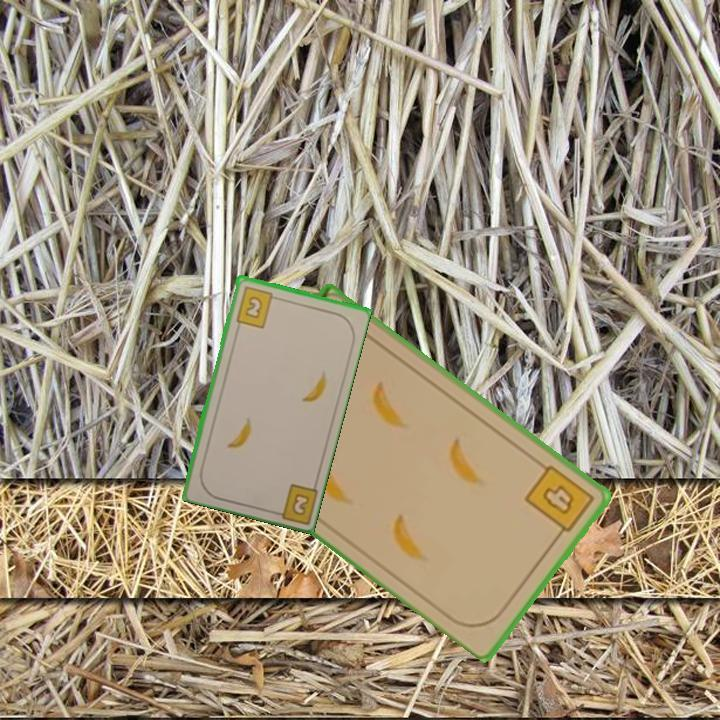2b: (232, 283, 281, 330), (268, 480, 319, 525)
4b: (521, 461, 598, 542)
